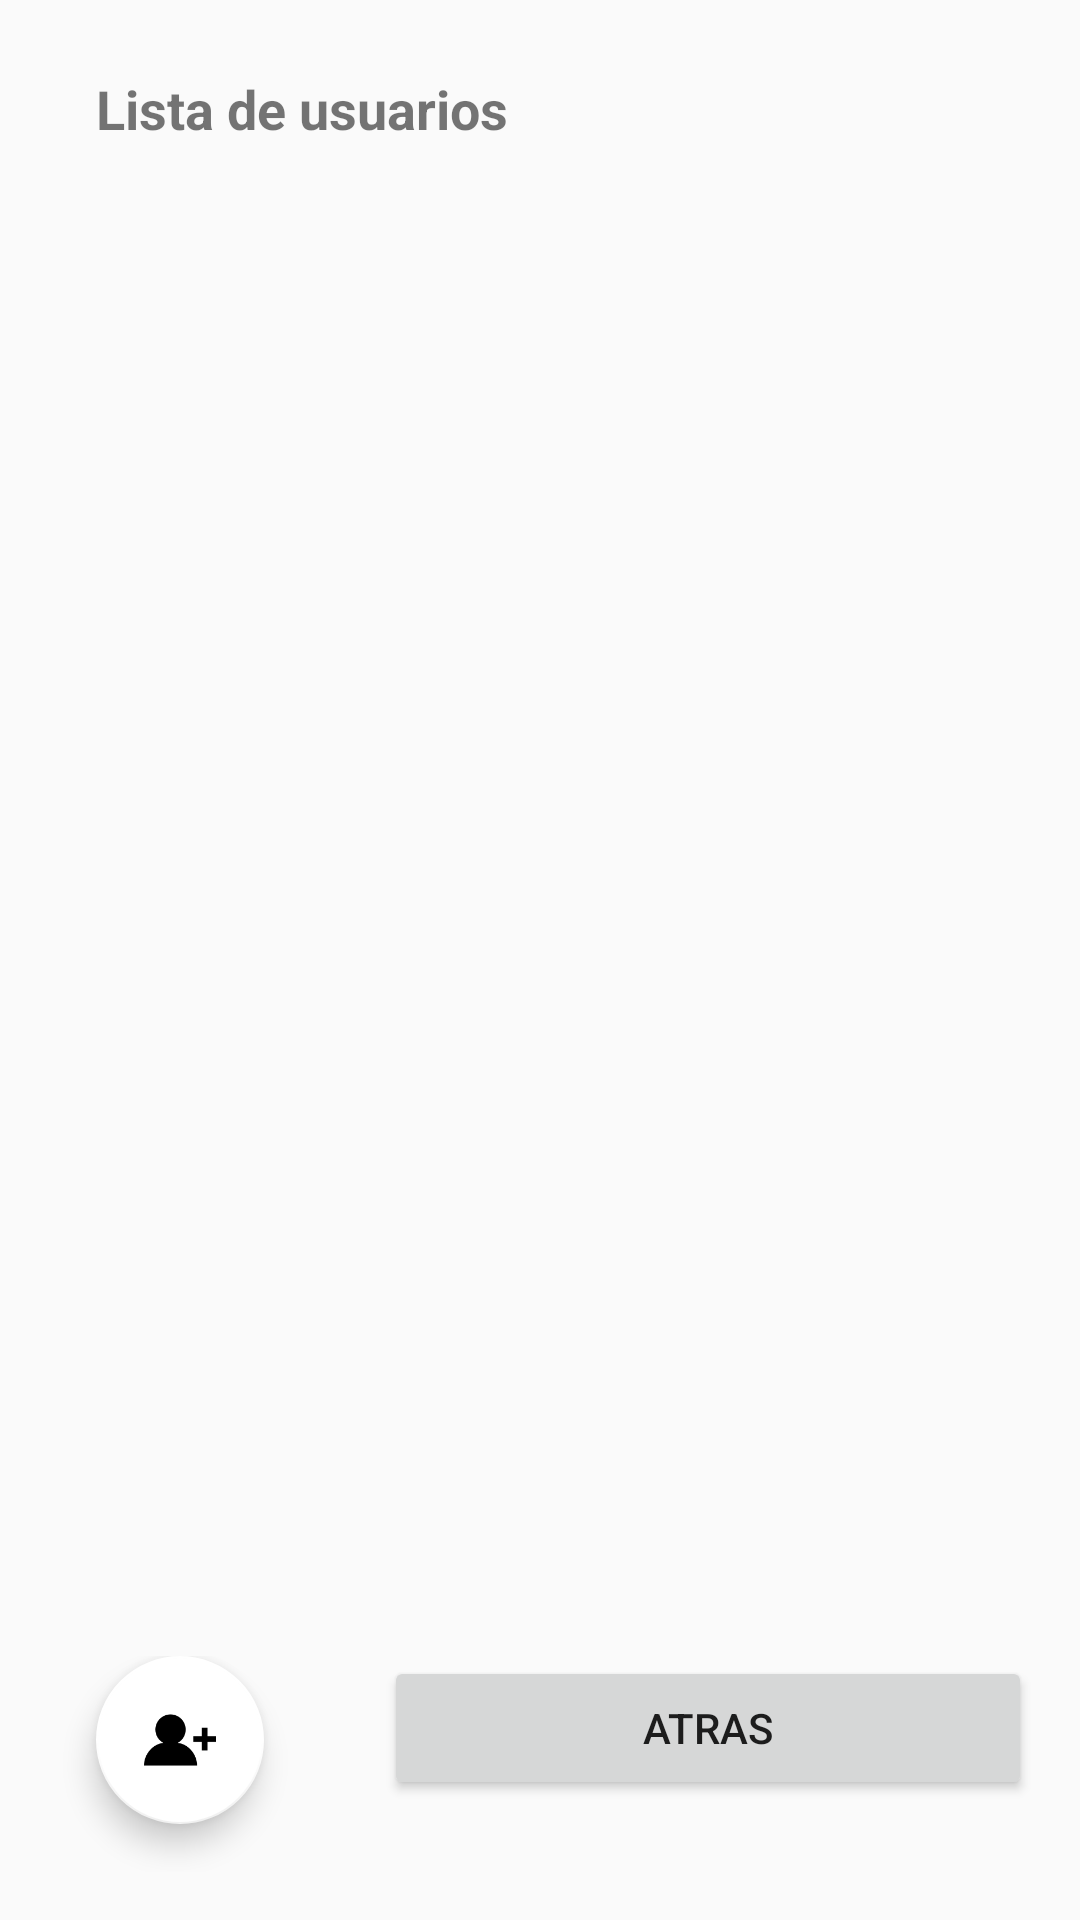

Named icons in this screenshot (1080px×1920px) and their centers, (x,y):
agregar usuario: (202,1741)
